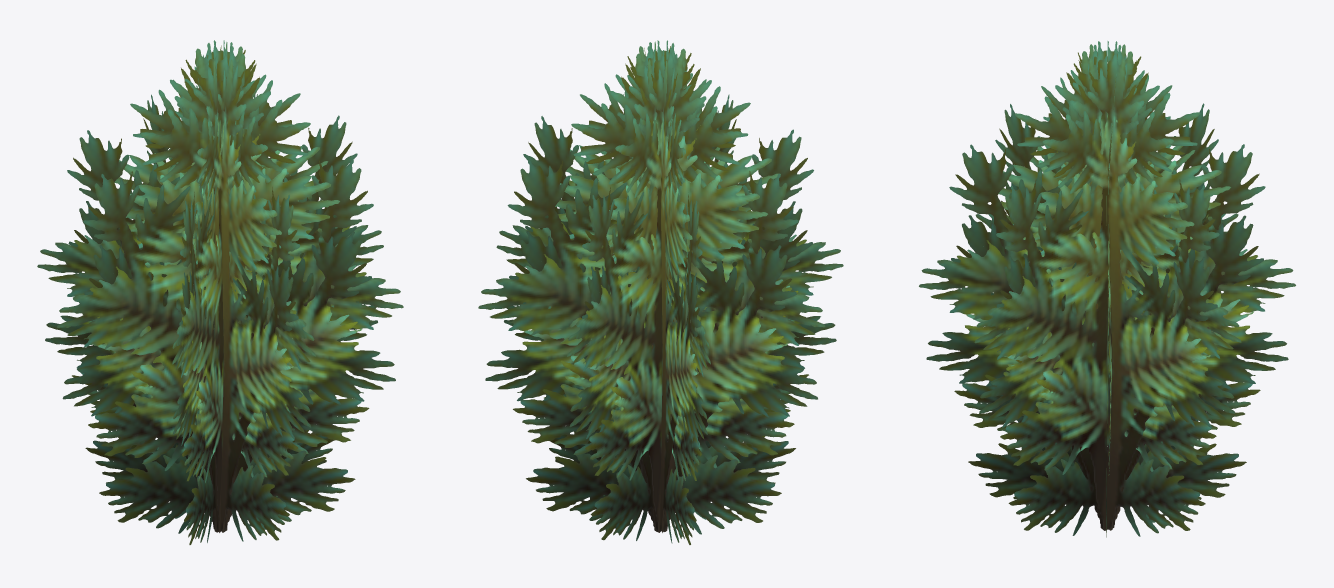
File: HP3_pine4.fbx
The picture shows the model from 3 angles, left to right: view 1: azimuth 30°, elevation 25°; view 2: azimuth 150°, elevation 25°; view 3: azimuth 270°, elevation 25°; orthographic projection.
Visible parts, largest first — view 1: HP3_pine4; view 2: HP3_pine4; view 3: HP3_pine4.
Boxes of the visible parts, x1,y1,x2,y2 form: HP3_pine4: [37, 40, 403, 544]; HP3_pine4: [478, 40, 843, 544]; HP3_pine4: [919, 41, 1295, 537].
Bounding box in the file's own units: 7.6 × 10.32 × 7.6.
